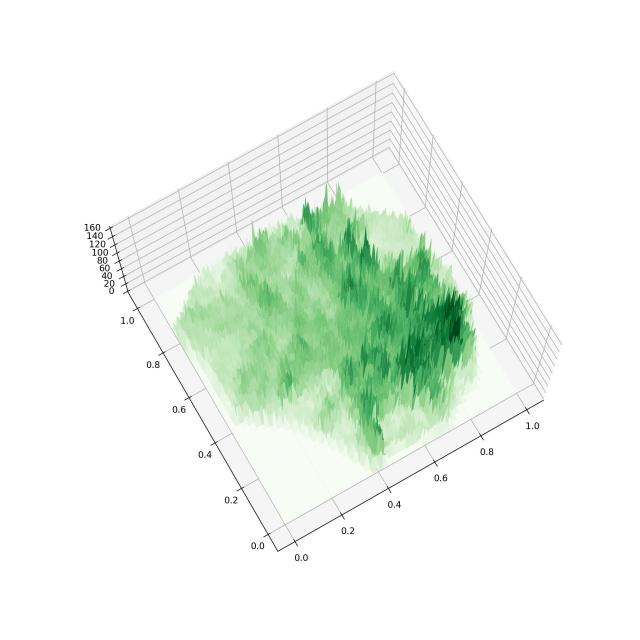spruce: (75, 38, 587, 590)
